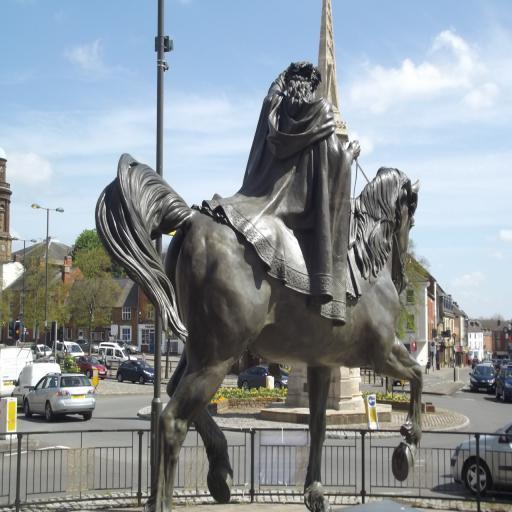horse: (94, 148, 424, 512)
